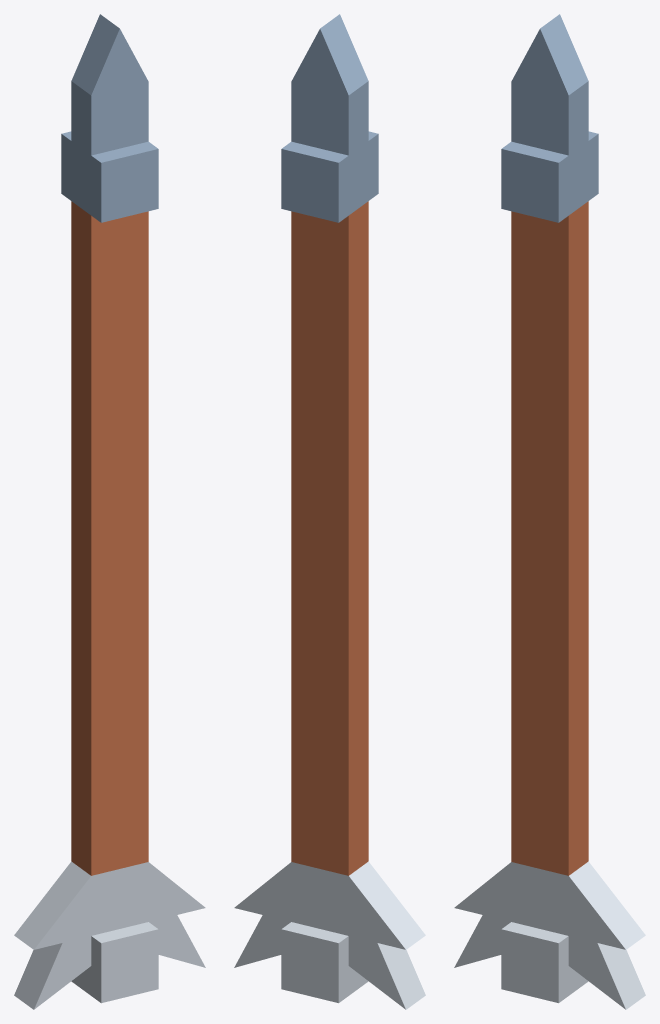
Rendered from arrow.obj.
The picture shows the model from 3 angles, left to right: view 1: azimuth 30°, elevation 25°; view 2: azimuth 150°, elevation 25°; view 3: azimuth 330°, elevation 25°; orthographic projection.
Size of the model in its own units: 3 by 16 by 1.2.
